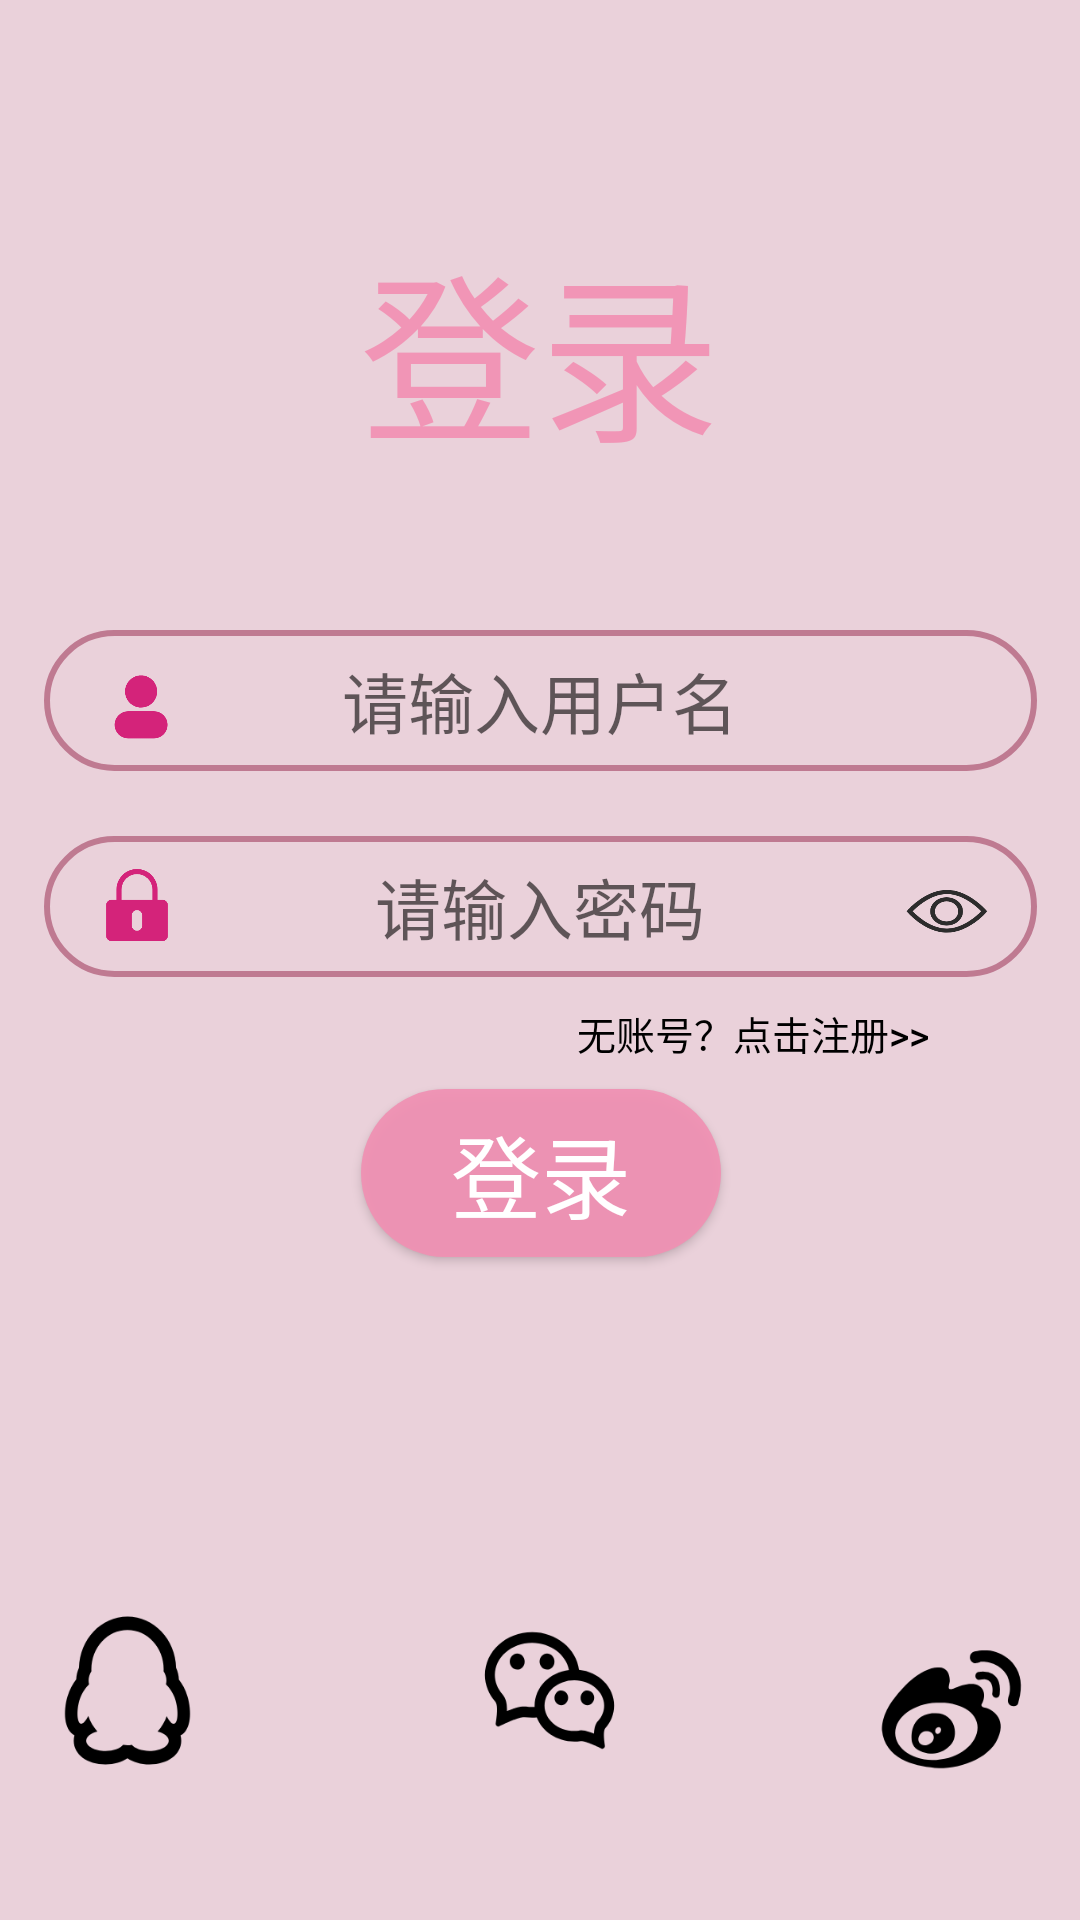

Locate icon controls on the screen. Image size 1080 × 1920, boxes as (x1=x1, y1=y1, x2=x2, y2=y2).
lock: (x1=106, y1=869, x2=168, y2=941)
user: (x1=114, y1=675, x2=168, y2=739)
view change: (x1=907, y1=890, x2=987, y2=933)
